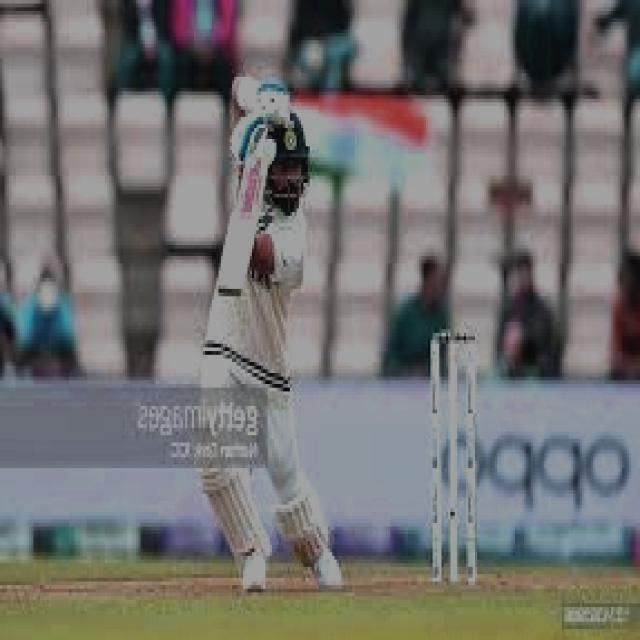bat: (212, 143, 280, 312)
toe: (219, 288, 243, 295)
